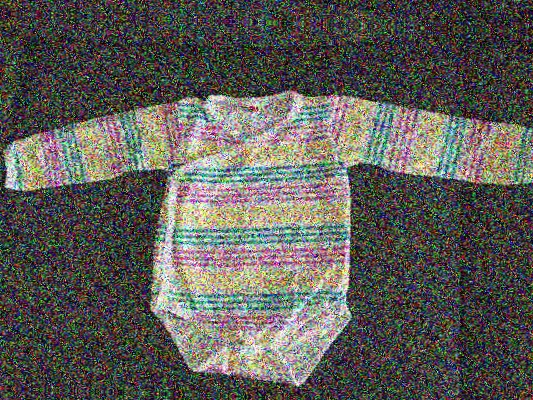Body: (0, 65, 533, 400), (0, 393, 526, 400)
